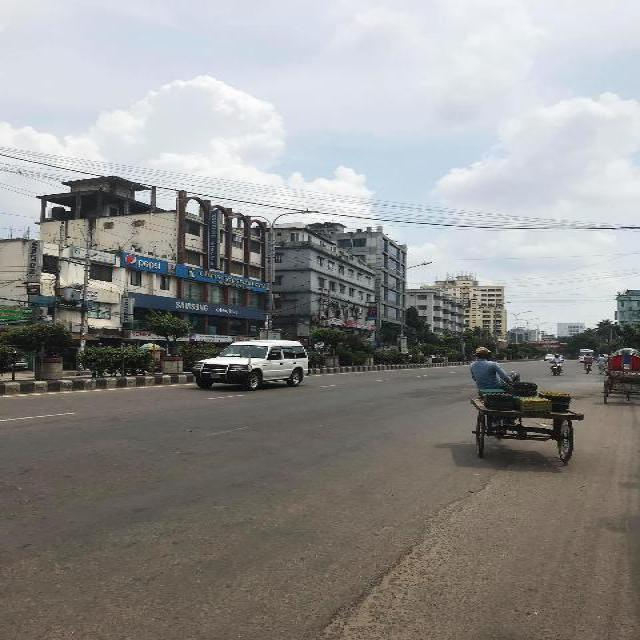bus: (577, 347, 592, 362)
car: (542, 353, 554, 360)
motorcycle: (468, 335, 585, 464), (600, 345, 639, 404), (547, 350, 561, 375), (583, 353, 592, 373)
truck: (189, 337, 308, 392)
